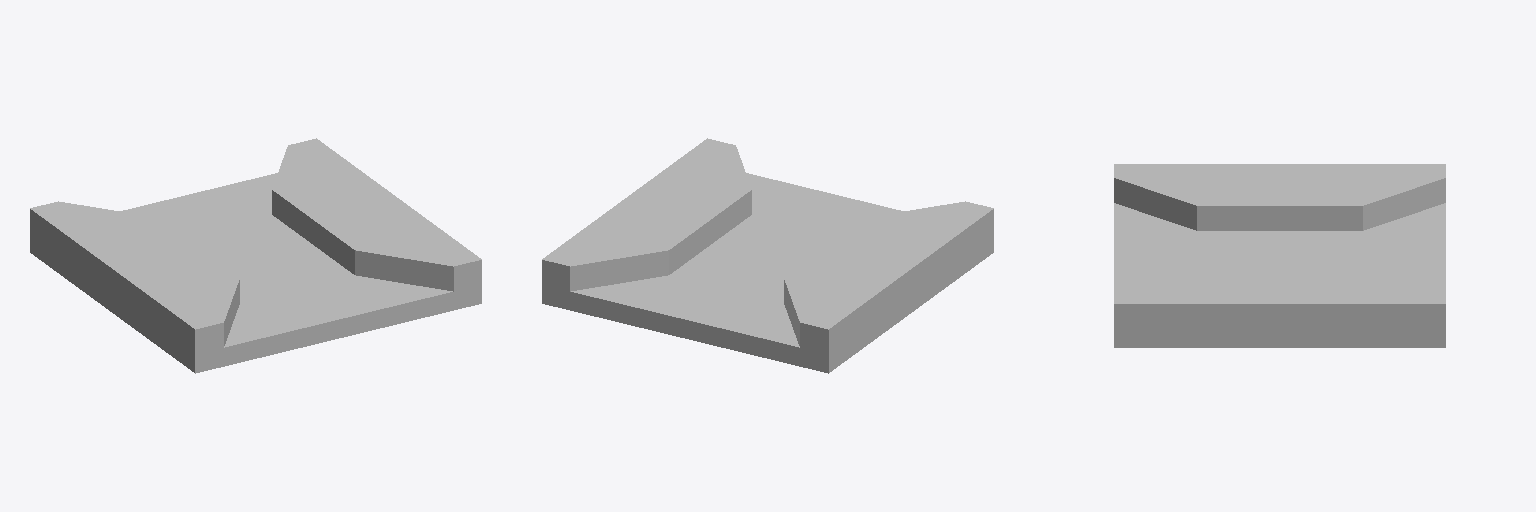
The model's file is narrowSquare.obj.
The picture shows the model from 3 angles: view 1: azimuth 30°, elevation 25°; view 2: azimuth 150°, elevation 25°; view 3: azimuth 270°, elevation 25°; orthographic projection.
Visible parts, largest first — view 1: narrowSquare; view 2: narrowSquare; view 3: narrowSquare.
Boxes of the visible parts, x1,y1,x2,y2 form: narrowSquare: [30, 138, 481, 373]; narrowSquare: [542, 138, 993, 373]; narrowSquare: [1114, 164, 1445, 347].
Bounding box in the file's own units: 0.9999 × 0.1467 × 0.9999.